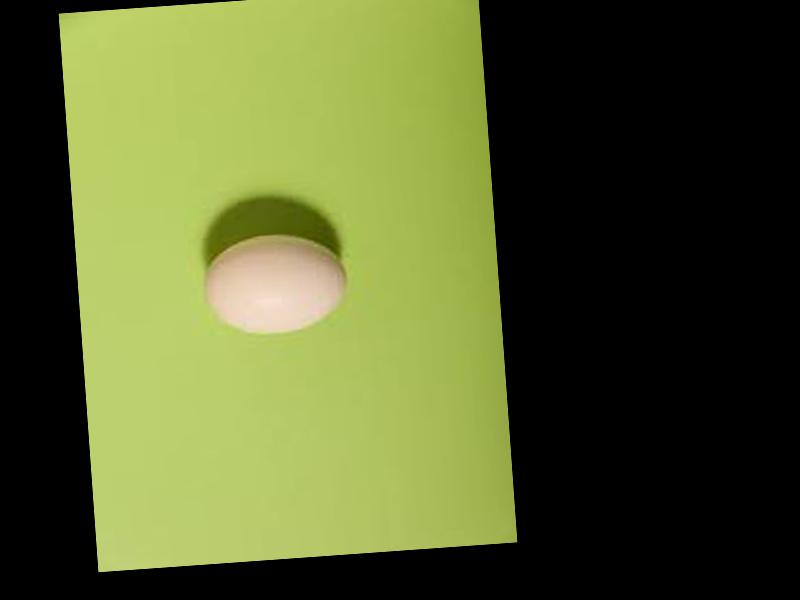Eggs: (201, 229, 352, 335)
